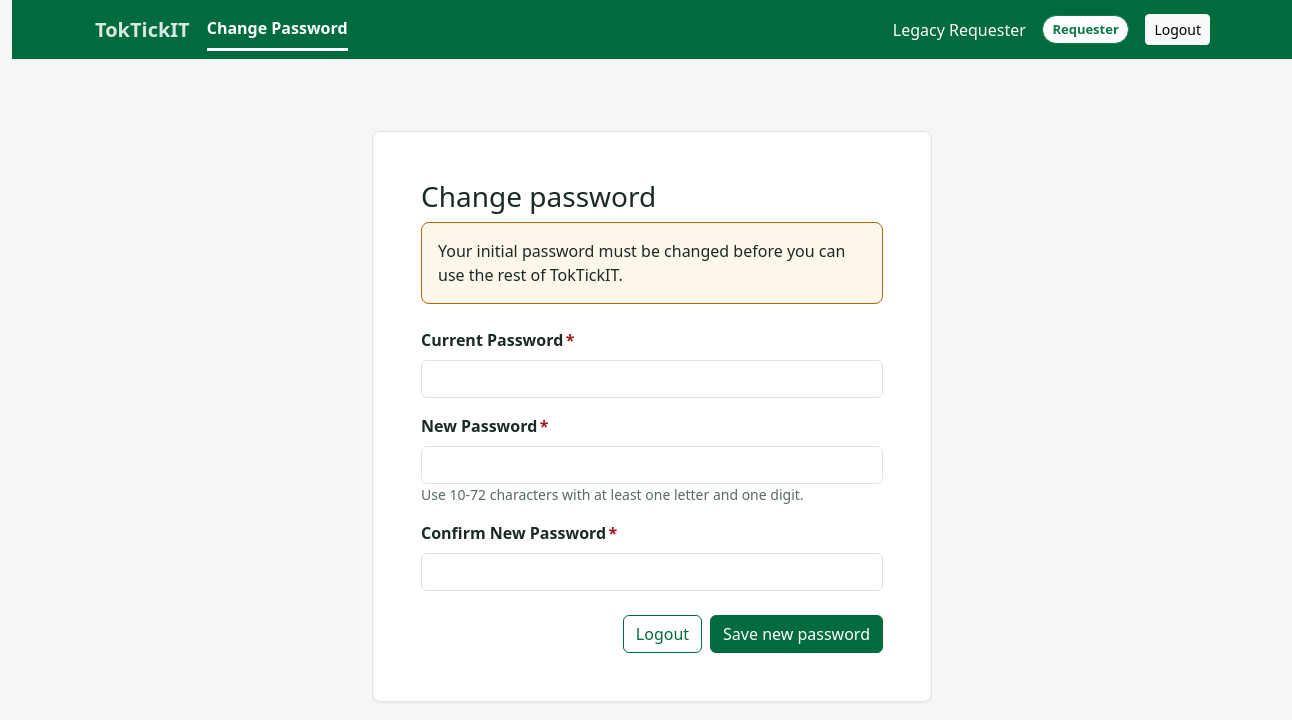
Test: Issue 50 Change Password › UI-05: restores a permitted destination after the mandatory password change
Expected: the heading "Change password" is shown, left=421, top=177, right=656, bottom=215
Type "initial-password1" into the password field labelled "Current Password*" at (652,379), box left=421, top=360, right=883, bottom=398
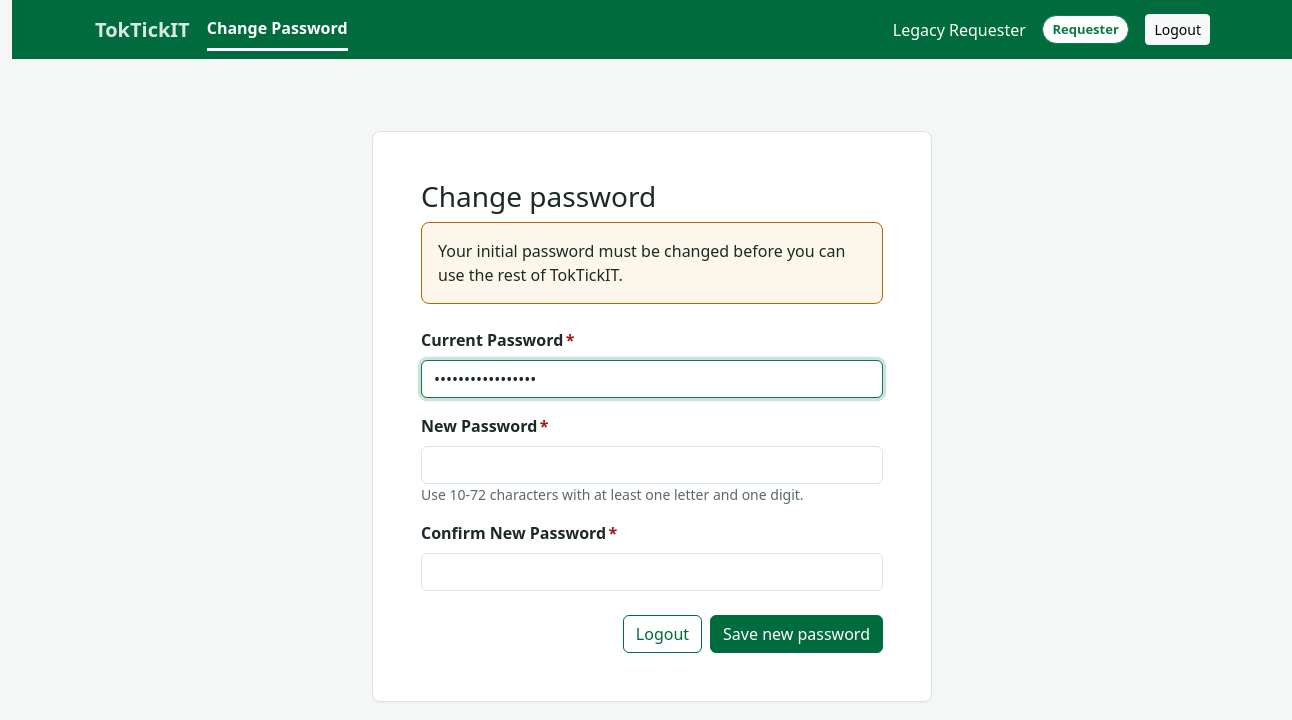
Type "replacement-password2" into the password field labelled "New Password*" at (652,465), box left=421, top=446, right=883, bottom=484
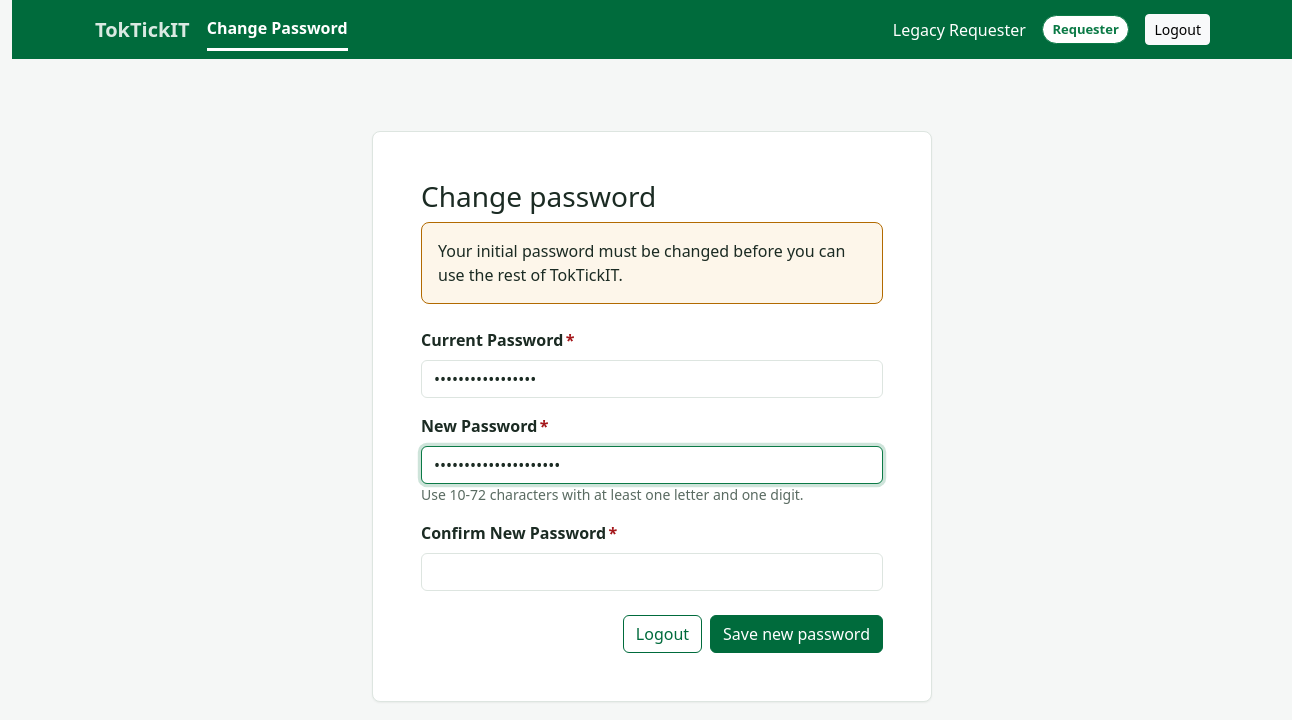
Type "replacement-password2" into the password field labelled "Confirm New Password*" at (652,572), box left=421, top=553, right=883, bottom=591
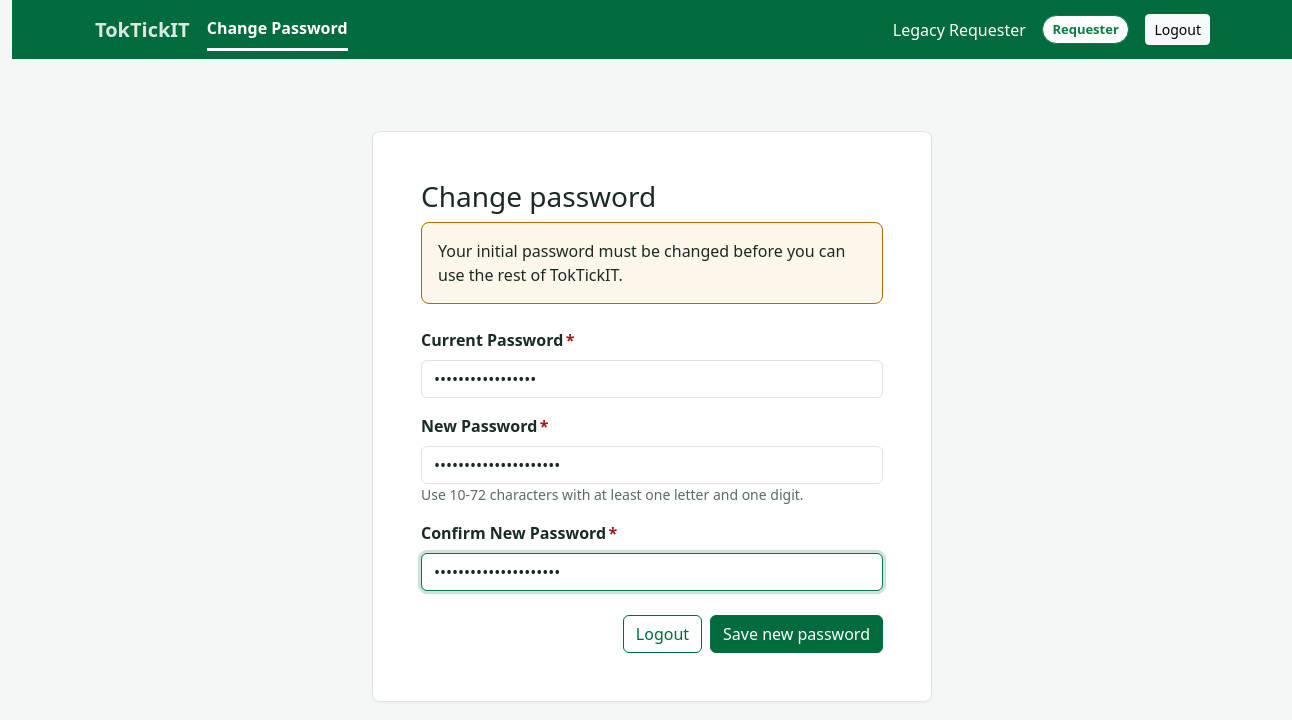
Click the button "Save new password" at (797,634), box left=710, top=615, right=883, bottom=653
(page scrolled)
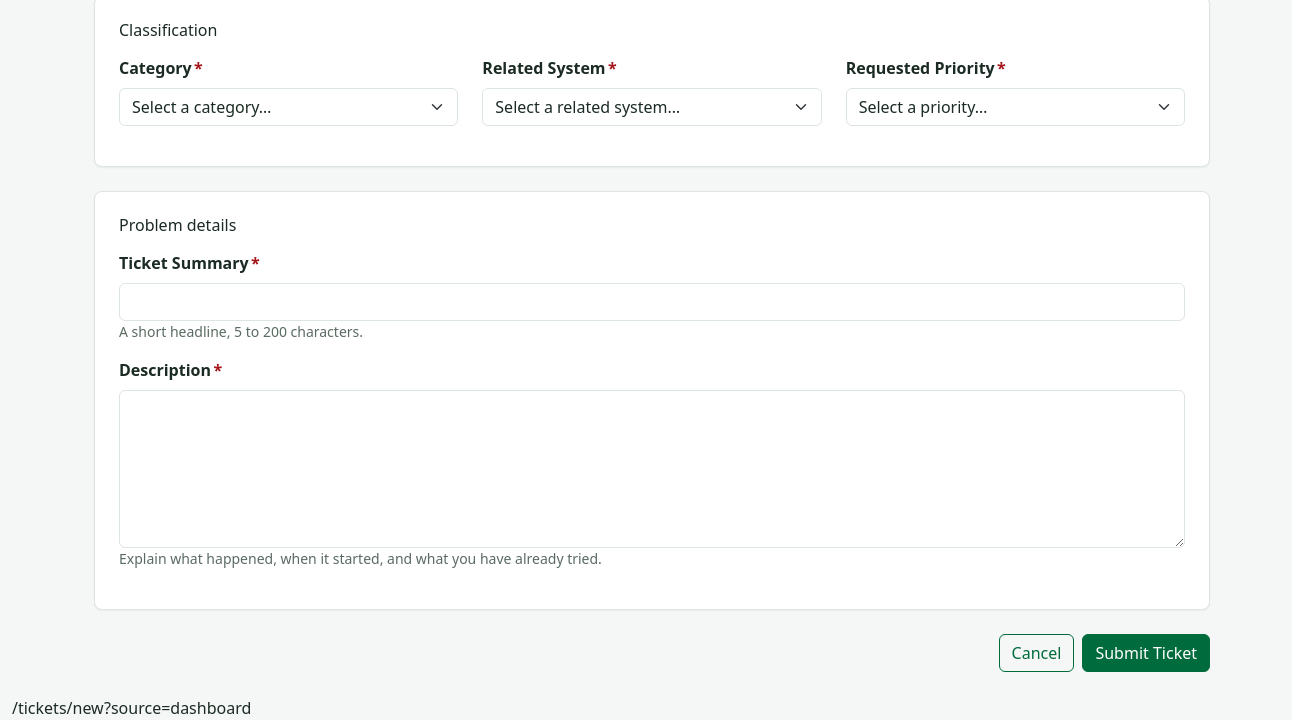
Result: the text with test id "location" reads "/tickets/new?source=dashboard" at left=12, top=696, right=251, bottom=719
